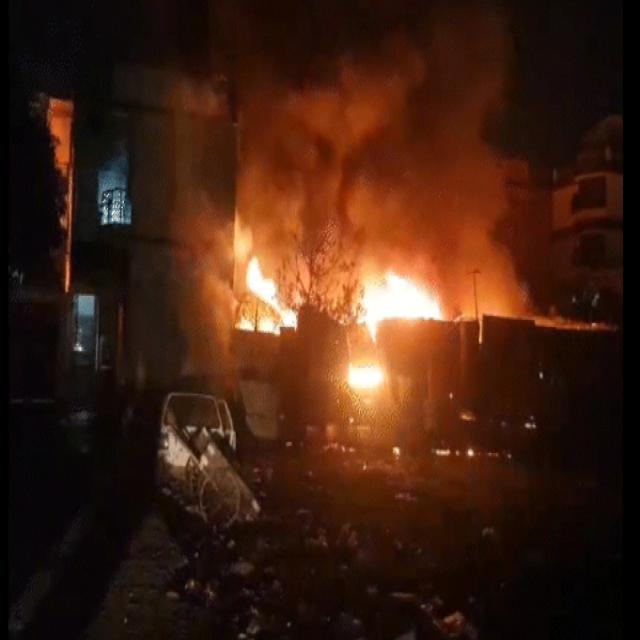fire: (357, 272, 441, 319), (247, 256, 276, 304)
